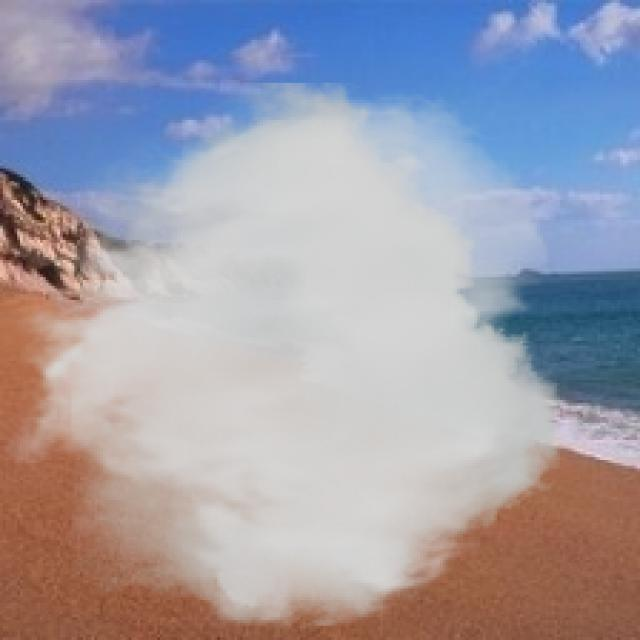smoke: (3, 83, 560, 634)
